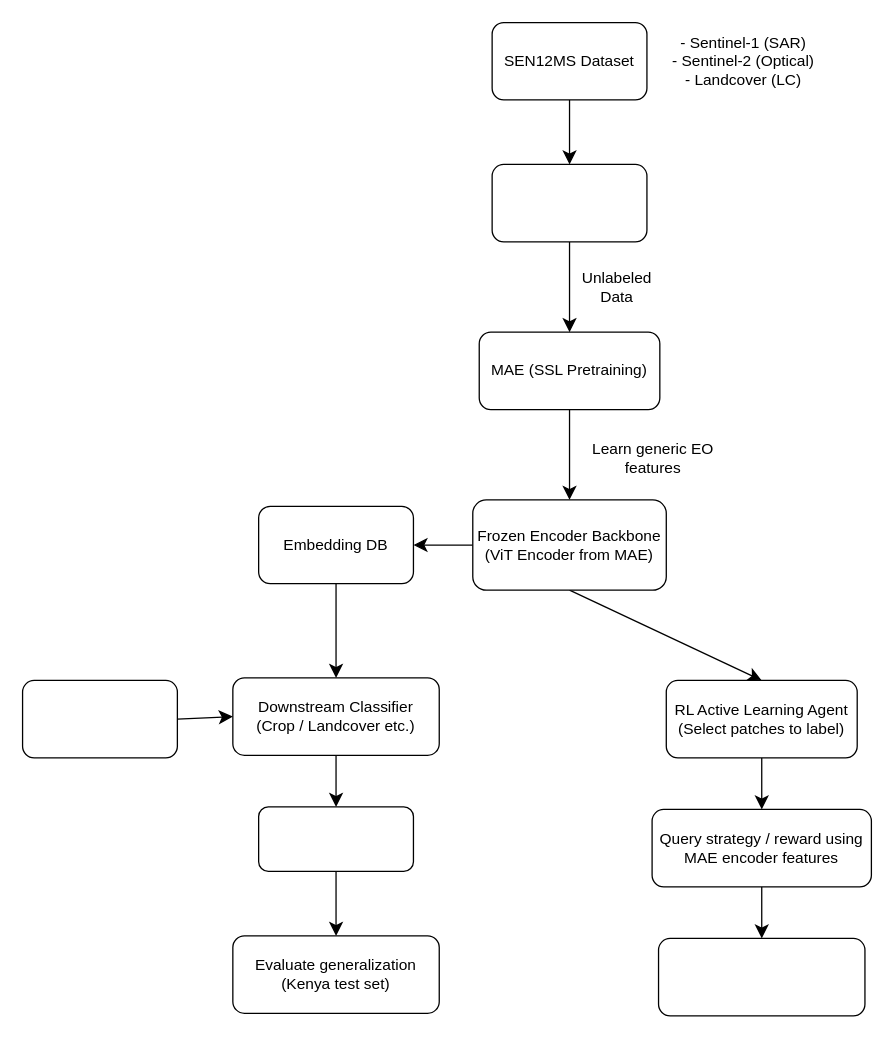
Some shapes in this 894 by 1038 pixel diagram are drawn without their labels. The shapes that lost their labels are listed below. From the top down, each one's box as (x1, y1, x2, y2) in pixels, then its label:
(491, 163, 647, 242): Preprocessing and Loading
(21, 679, 177, 758): Kenya Crop Type Dataset
(257, 806, 413, 871): Trained classifier head
(657, 937, 865, 1016): Recommend new samples for labeling (simulate)
